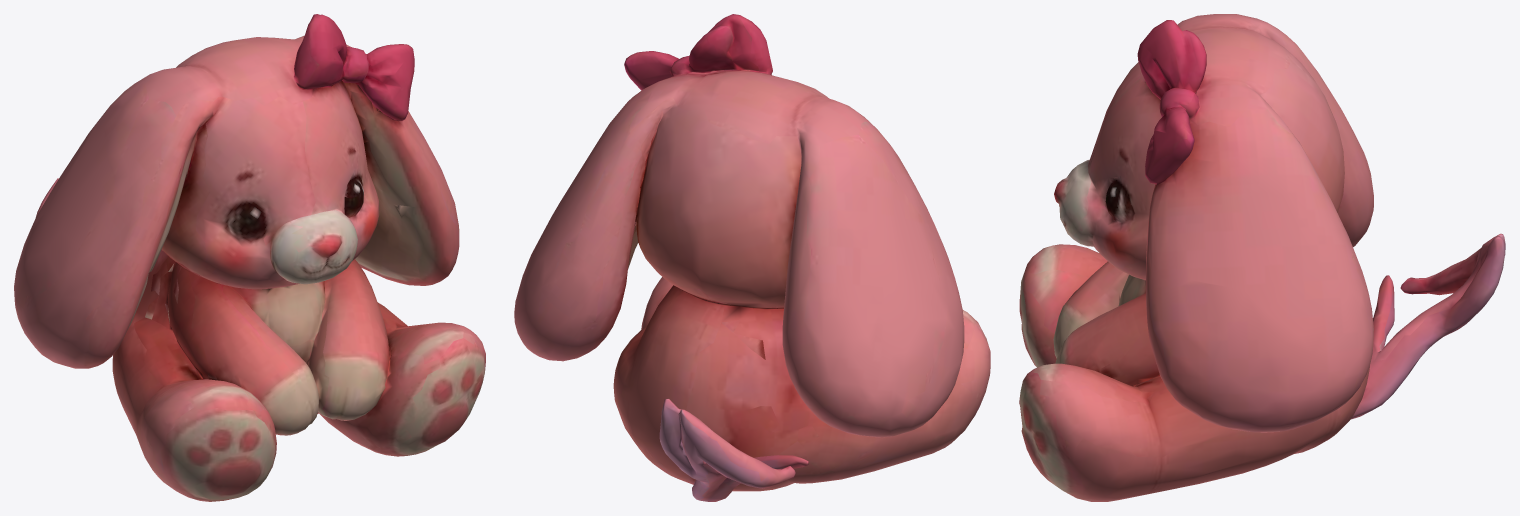
The model's file is doll_colorful.glb.
3 views of the same model, side by side, from view 1: azimuth 30°, elevation 25°; view 2: azimuth 150°, elevation 25°; view 3: azimuth 270°, elevation 25° (orthographic). The views are drawn at different scales.
Parts seen in each view (by area): view 1: textured_mesh.obj; view 2: textured_mesh.obj; view 3: textured_mesh.obj.
Boxes of the visible parts, x1=… form: textured_mesh.obj: x1=14, y1=14, x2=485, y2=501; textured_mesh.obj: x1=514, y1=14, x2=990, y2=501; textured_mesh.obj: x1=1019, y1=14, x2=1505, y2=501.
Size of what is drawn, in the model's own units: 0.6987 by 0.6996 by 0.694.
1 material, 1 textured.
